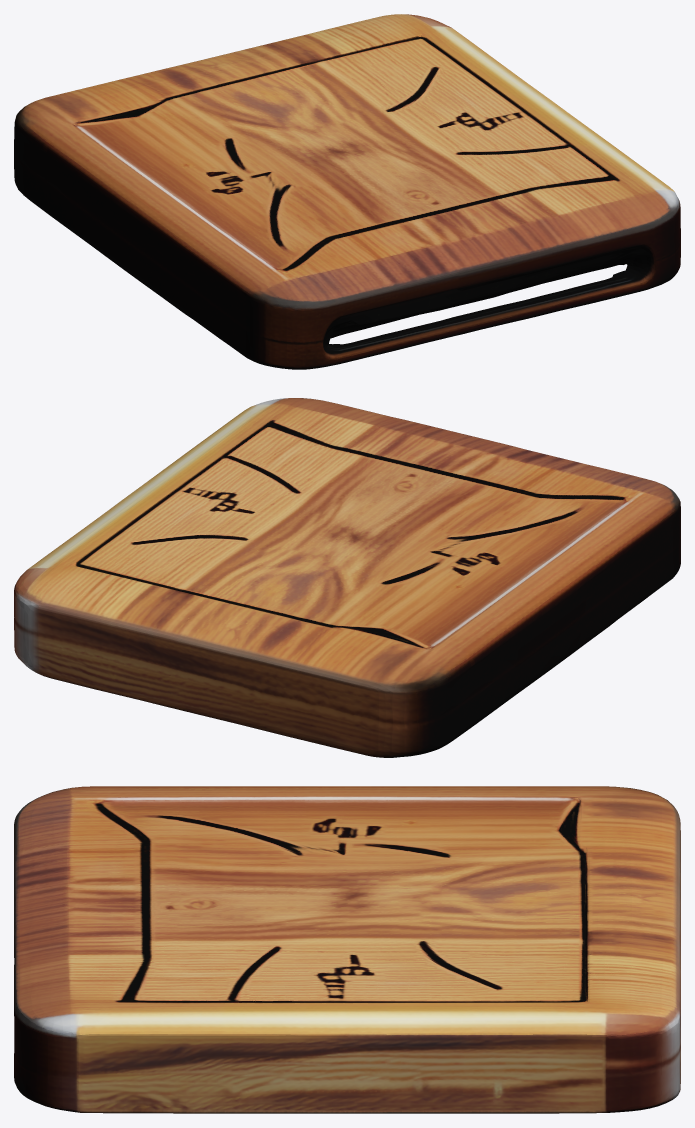
File: wooden-hard-drive-case-futuristic.jpeg.glb
The picture shows the model from 3 angles, top to bottom: view 1: azimuth 30°, elevation 25°; view 2: azimuth 150°, elevation 25°; view 3: azimuth 270°, elevation 25°; orthographic projection. The views are drawn at different scales.
Visible parts, largest first — view 1: world; view 2: world; view 3: world.
Boxes of the visible parts, x1,y1,x2,y2 form: world: (14,14,680,369); world: (14,398,680,757); world: (14,786,680,1113).
Size of the model in its own units: 0.8799 by 0.1648 by 1.
Materials: 1 (1 with a texture image).
